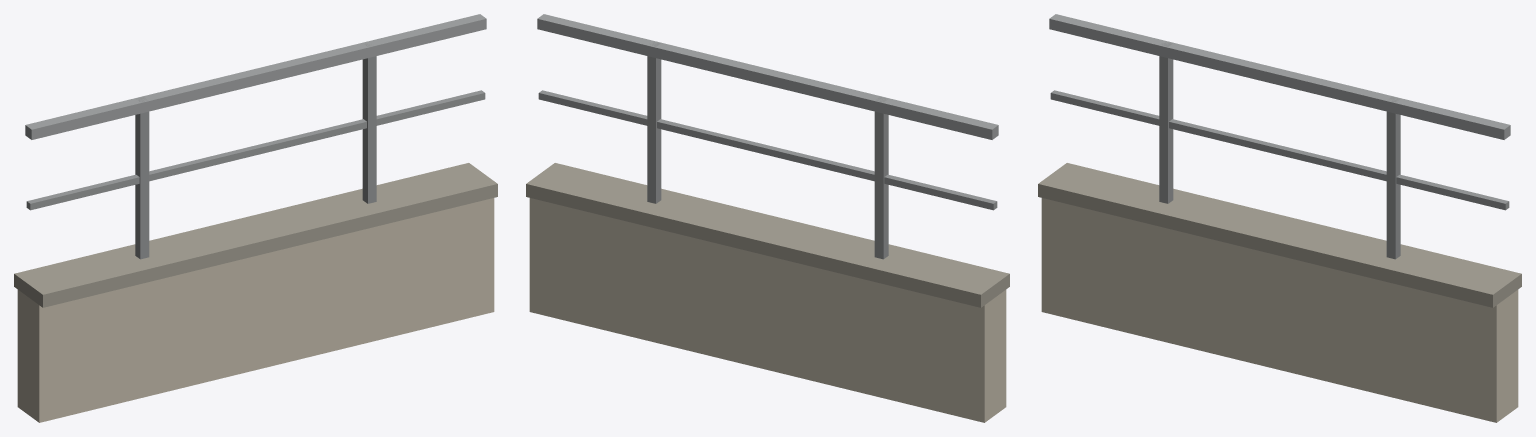
The model's file is building_parapet_01.glb.
3 views of the same model, side by side, from view 1: azimuth 30°, elevation 25°; view 2: azimuth 150°, elevation 25°; view 3: azimuth 330°, elevation 25° (orthographic).
Visible parts, largest first — view 1: building_parapet_01; view 2: building_parapet_01; view 3: building_parapet_01.
Boxes of the visible parts, <box> form: building_parapet_01: <box>14,14,497,422</box>; building_parapet_01: <box>526,14,1009,422</box>; building_parapet_01: <box>1038,14,1521,422</box>.
Size of the model in its own units: 1.82 by 1.1 by 0.2.
